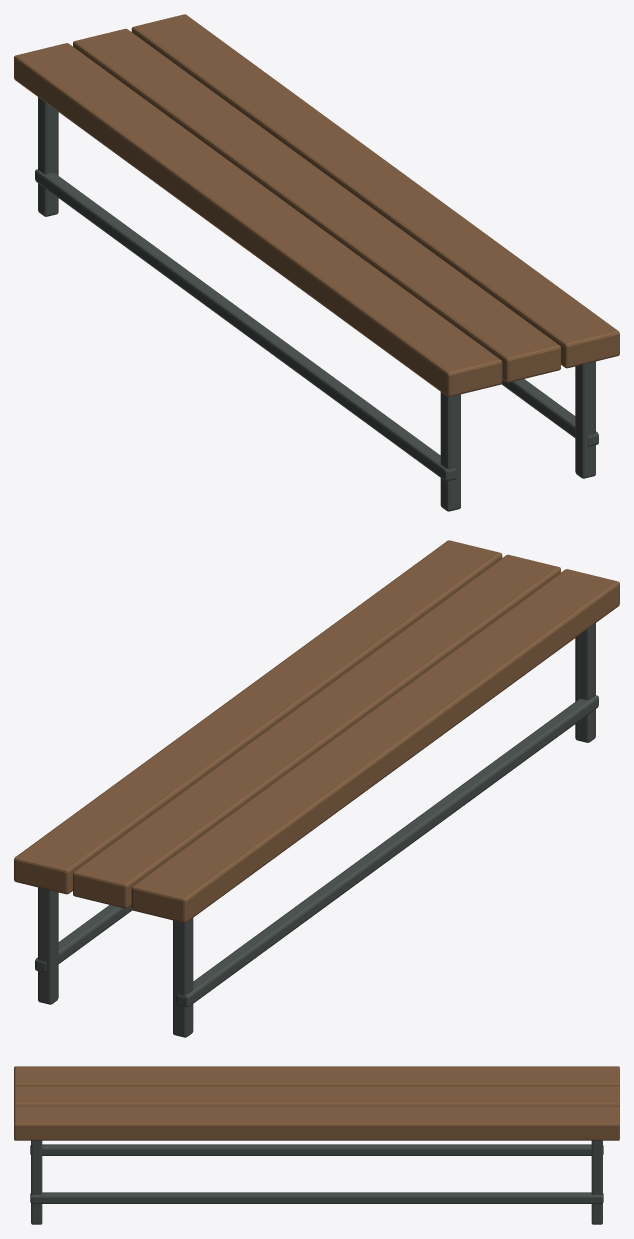
File: school-bench.fbx
The picture shows the model from 3 angles, top to bottom: view 1: azimuth 30°, elevation 25°; view 2: azimuth 150°, elevation 25°; view 3: azimuth 270°, elevation 25°; orthographic projection. The views are drawn at different scales.
Visible parts, largest first — view 1: Oak seat slat, Oak seat slat.002, Oak seat slat.001, Lower stretcher, Iron leg.001, Iron leg, Iron leg.002, Lower stretcher.001; view 2: Oak seat slat, Oak seat slat.002, Oak seat slat.001, Lower stretcher, Iron leg.003, Iron leg.002, Iron leg, Lower stretcher.001; view 3: Oak seat slat.002, Oak seat slat, Oak seat slat.001, Lower stretcher.001, Lower stretcher, Iron leg.001, Iron leg.003.
Boxes of the visible parts, <box> form: Oak seat slat: <box>14,43,502,396</box>; Oak seat slat.002: <box>131,14,619,368</box>; Oak seat slat.001: <box>73,28,560,382</box>; Lower stretcher: <box>35,169,457,481</box>; Iron leg.001: <box>575,361,595,478</box>; Iron leg: <box>440,392,460,511</box>; Iron leg.002: <box>38,97,58,216</box>; Lower stretcher.001: <box>501,379,598,446</box>; Oak seat slat: <box>131,569,619,922</box>; Oak seat slat.002: <box>14,540,502,894</box>; Oak seat slat.001: <box>73,554,560,908</box>; Lower stretcher: <box>176,695,598,1007</box>; Iron leg.003: <box>38,887,58,1004</box>; Iron leg.002: <box>173,918,193,1037</box>; Iron leg: <box>575,623,595,742</box>; Lower stretcher.001: <box>35,905,132,972</box>; Oak seat slat.002: <box>14,1106,619,1140</box>; Oak seat slat: <box>14,1066,619,1087</box>; Oak seat slat.001: <box>14,1086,619,1107</box>; Lower stretcher.001: <box>30,1192,603,1203</box>; Lower stretcher: <box>30,1144,603,1155</box>; Iron leg.001: <box>31,1140,42,1224</box>; Iron leg.003: <box>591,1140,602,1224</box>.
Bounding box in the file's own units: 0.55 × 0.46 × 2.4.
